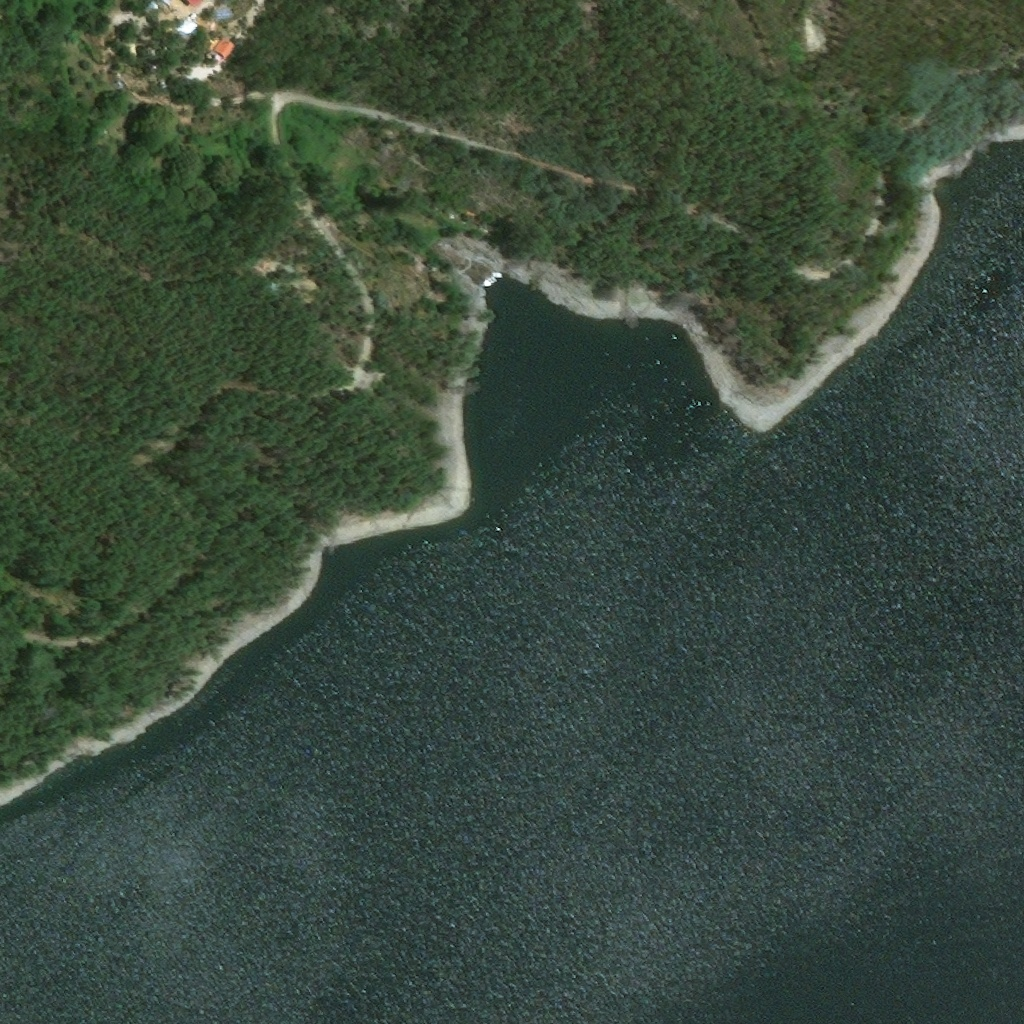0 no-damage: (206, 37, 237, 65), (176, 19, 200, 37)
4 un-classified: (211, 81, 227, 93), (124, 43, 137, 57)
